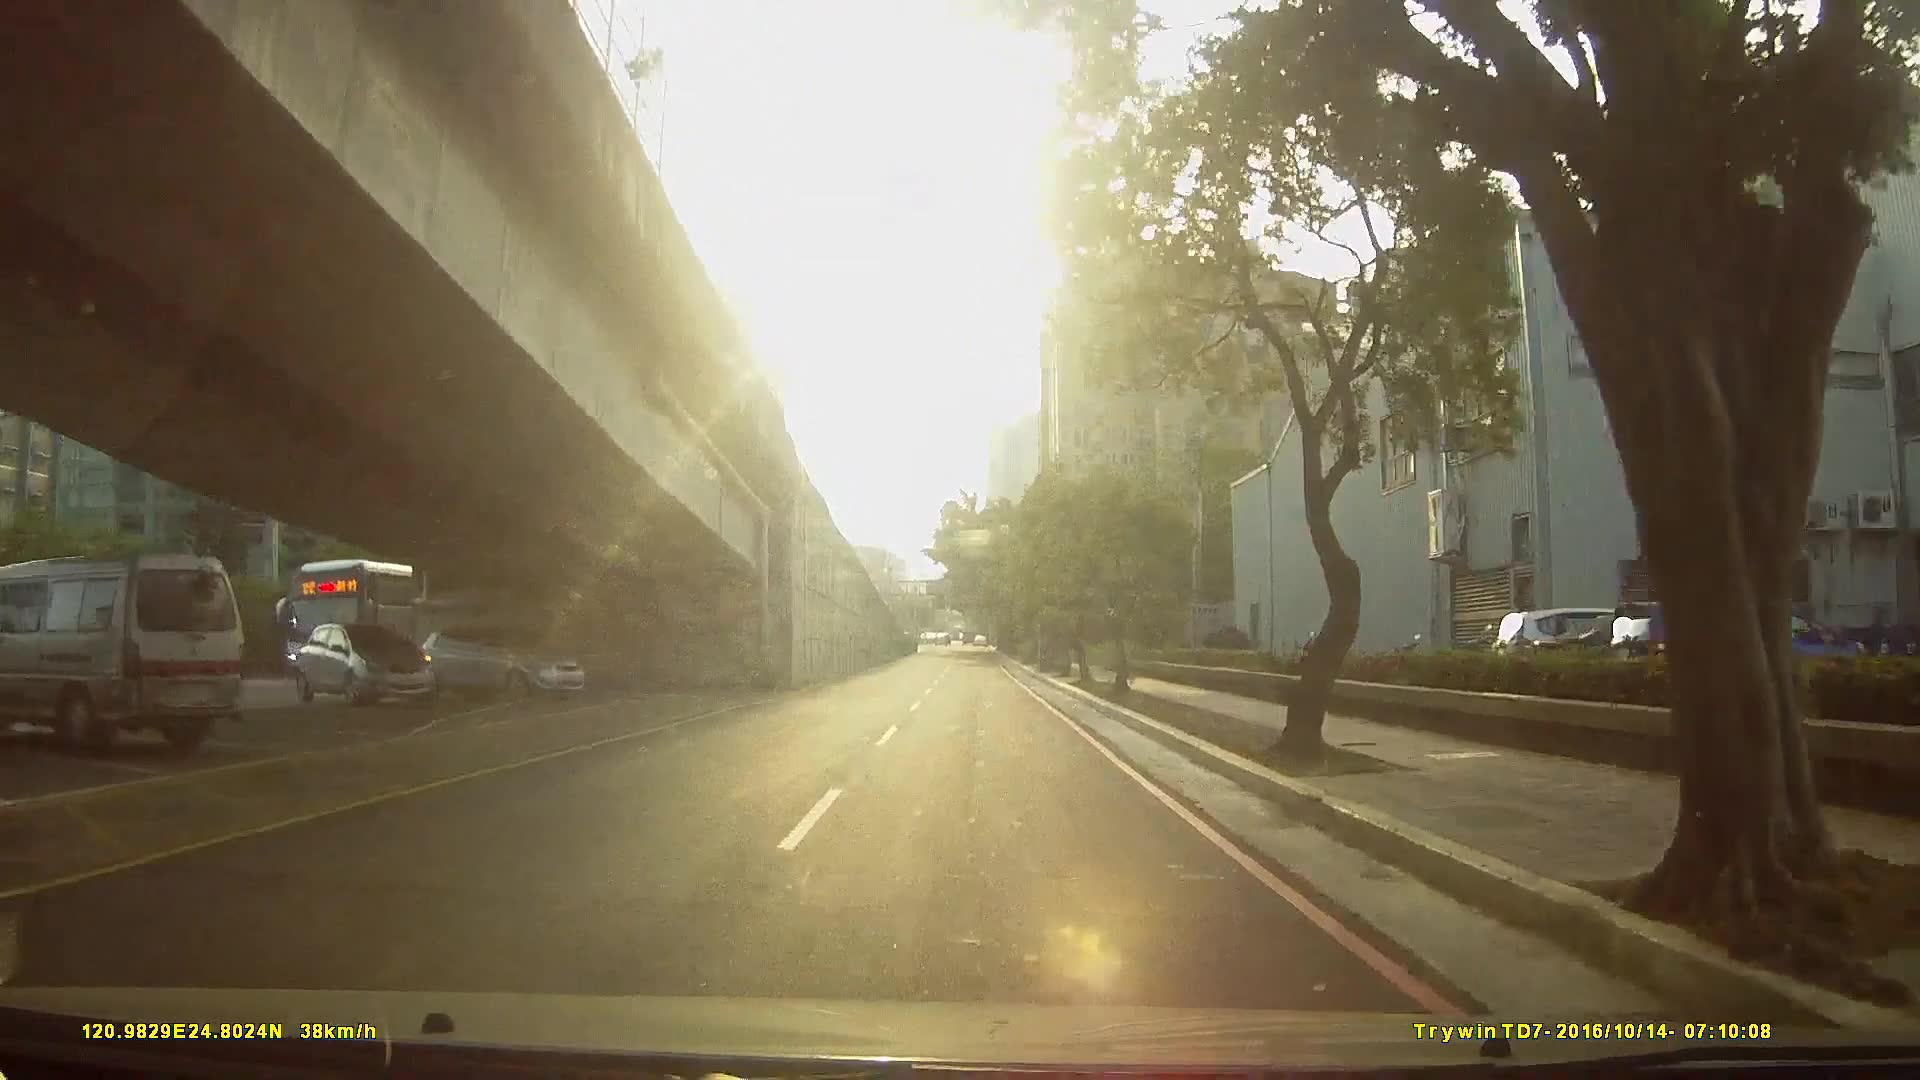vehicle: (1, 542, 248, 756), (274, 553, 498, 696), (409, 620, 584, 702), (284, 617, 433, 708)
